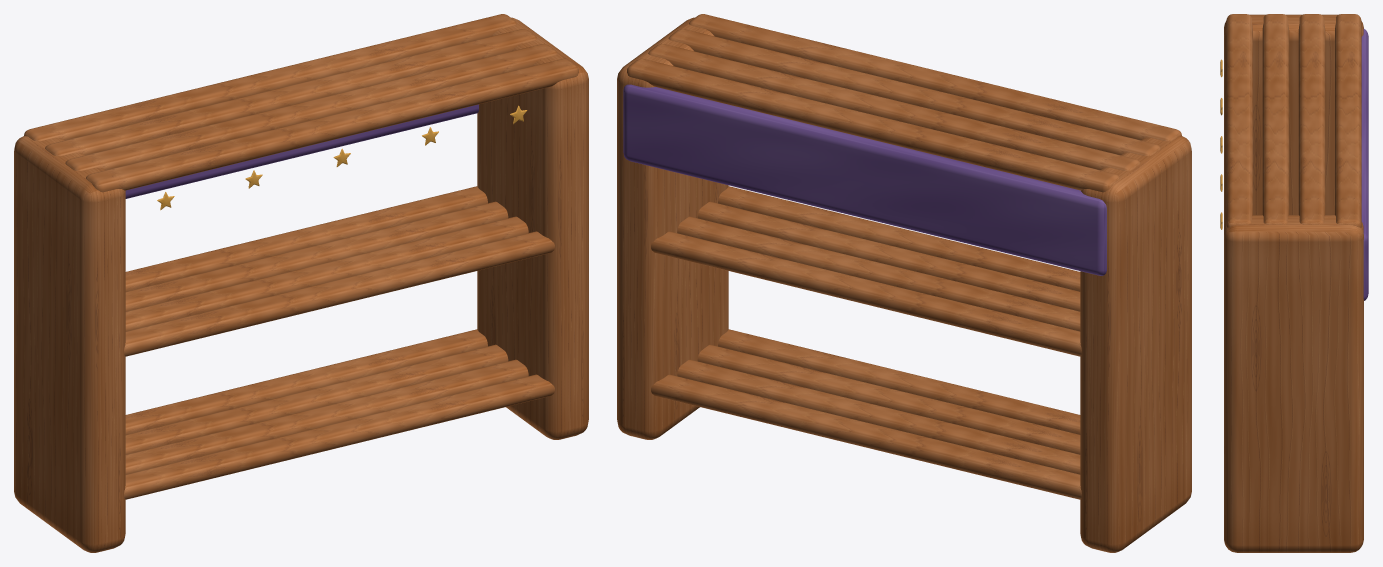
Rendered from V5_ShoeRack.fbx.
3 renders of one model, left to right at view 1: azimuth 30°, elevation 25°; view 2: azimuth 150°, elevation 25°; view 3: azimuth 270°, elevation 25°, orthographic. The views are drawn at different scales.
Parts seen in each view (by area): view 1: V5_ShoeRack; view 2: V5_ShoeRack; view 3: V5_ShoeRack.
Boxes of the visible parts, x1,y1,x2,y2 form: V5_ShoeRack: (14,14,588,552); V5_ShoeRack: (617,14,1191,552); V5_ShoeRack: (1220,14,1368,552).
Bounding box in the file's own units: 1.15 × 0.8075 × 0.3275.
Materials: 1 (1 with a texture image).
